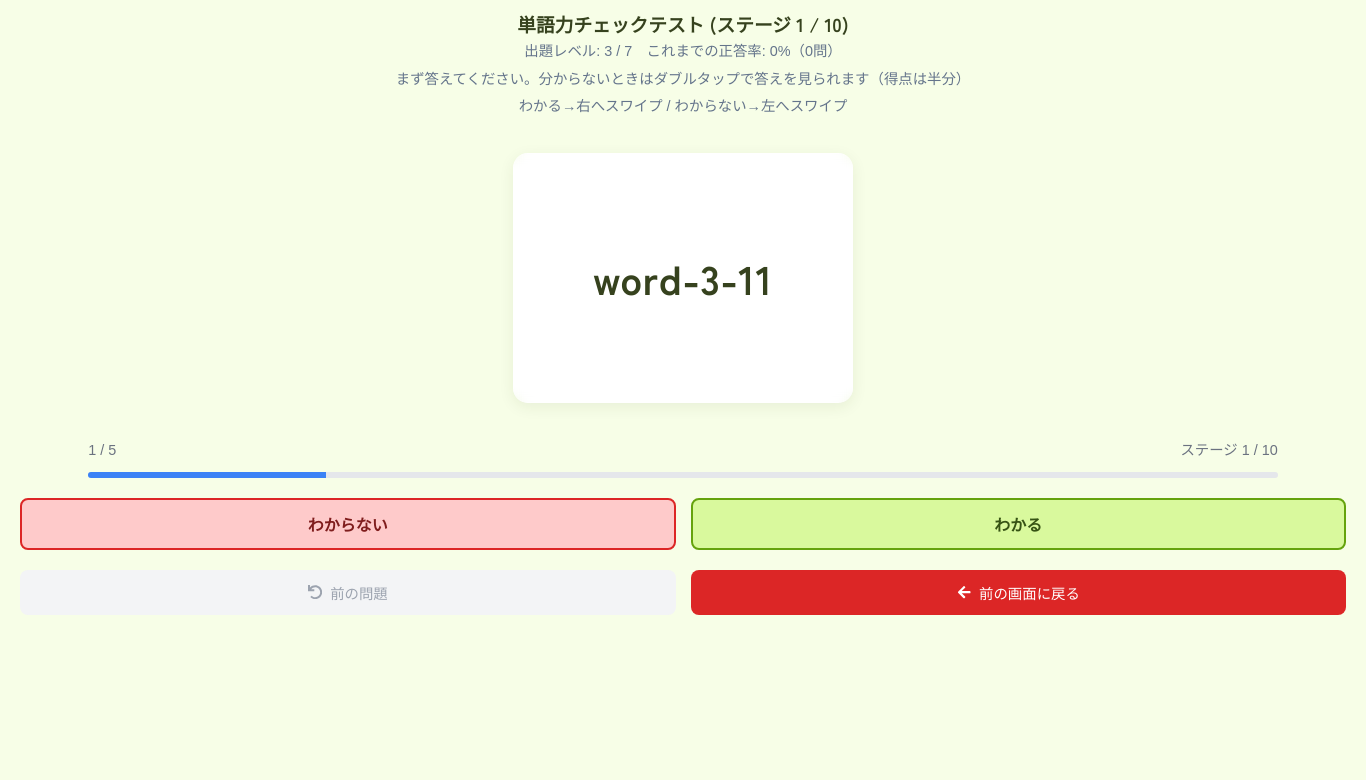
ステージ途中でリセットされない › 5問目まで進んでも問題番号も正答率も巻き戻らない
Click the button "わかる".
click(1018, 524)  # box [690, 498, 1346, 550]
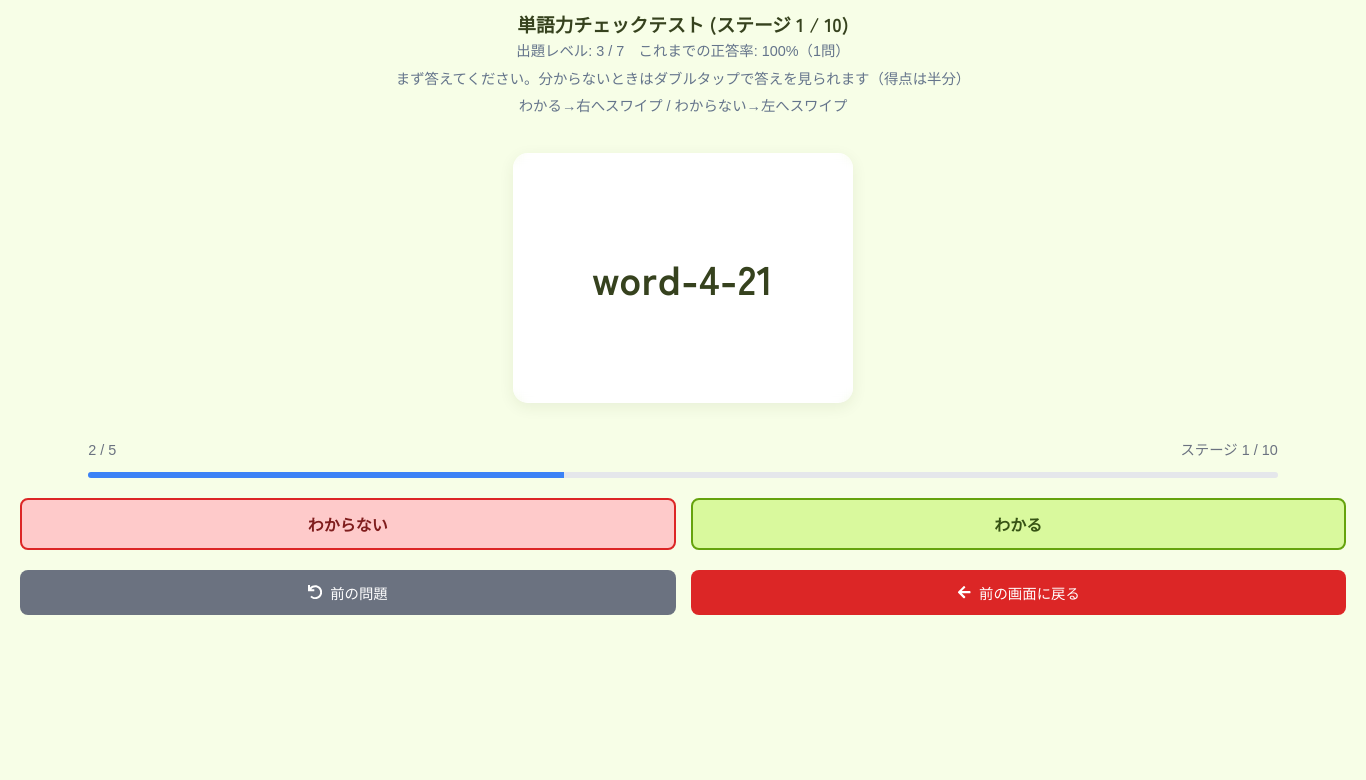
Click the button "わかる".
click(1018, 524)  # box [690, 498, 1346, 550]
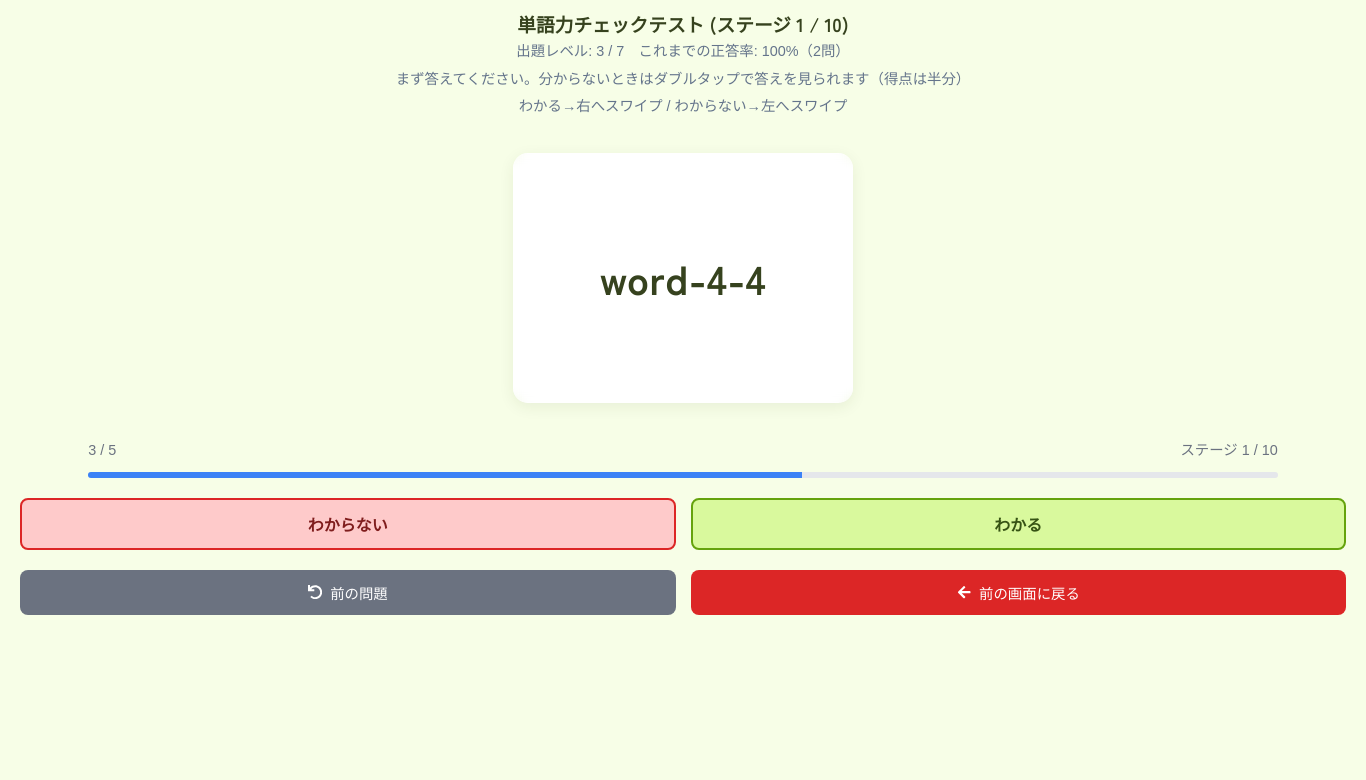
Click the button "わかる".
click(1018, 524)  # box [690, 498, 1346, 550]
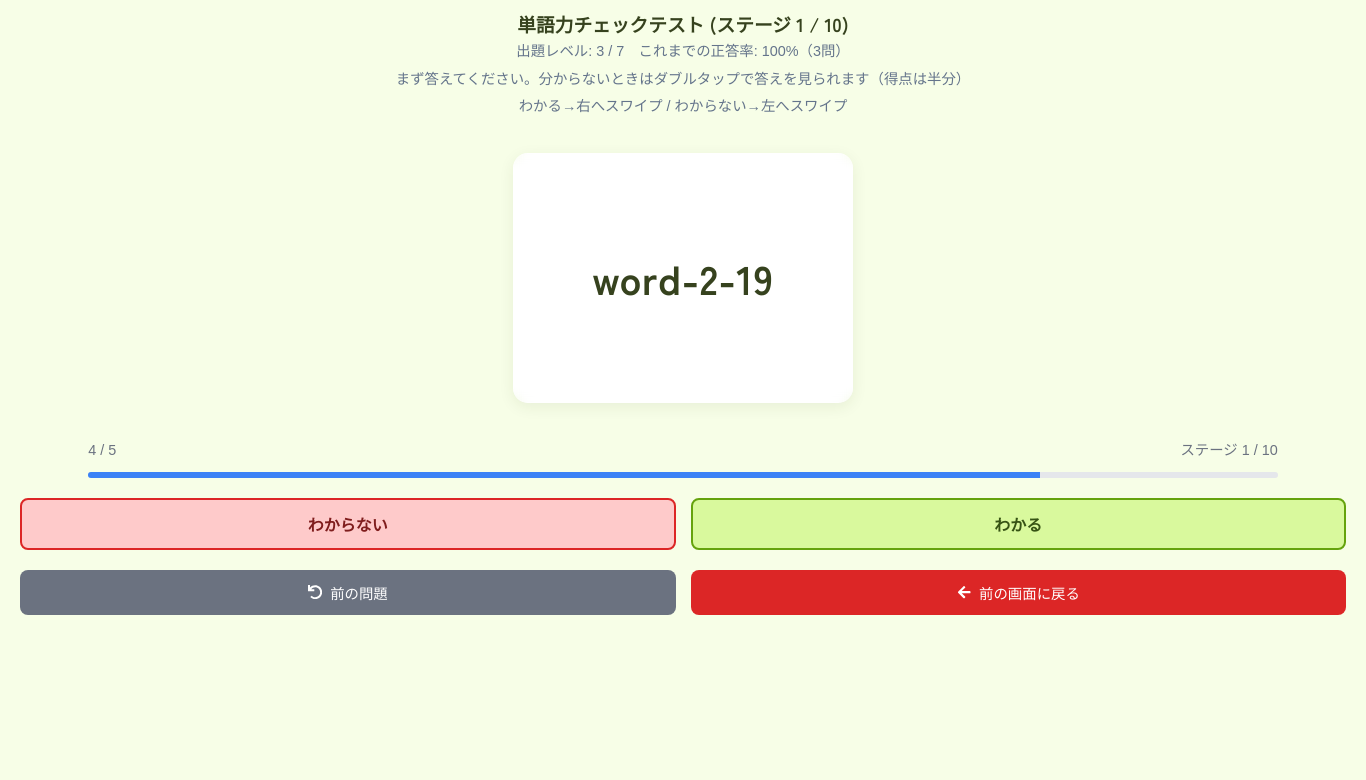
Click the button "わかる".
click(1018, 524)  # box [690, 498, 1346, 550]
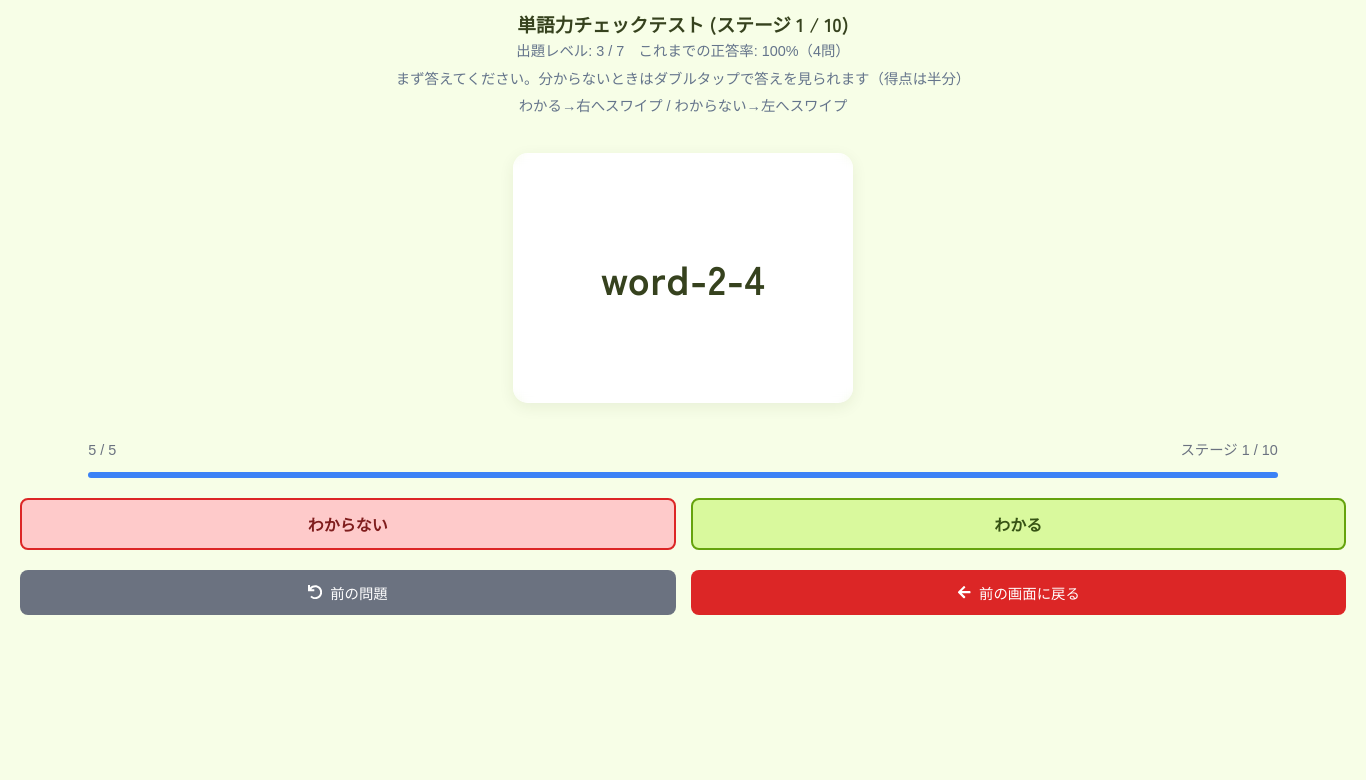
Result: the text "出題レベル: 3 / 7 これまでの正答率: 100%（4問）" is shown at [516, 43, 850, 59]
